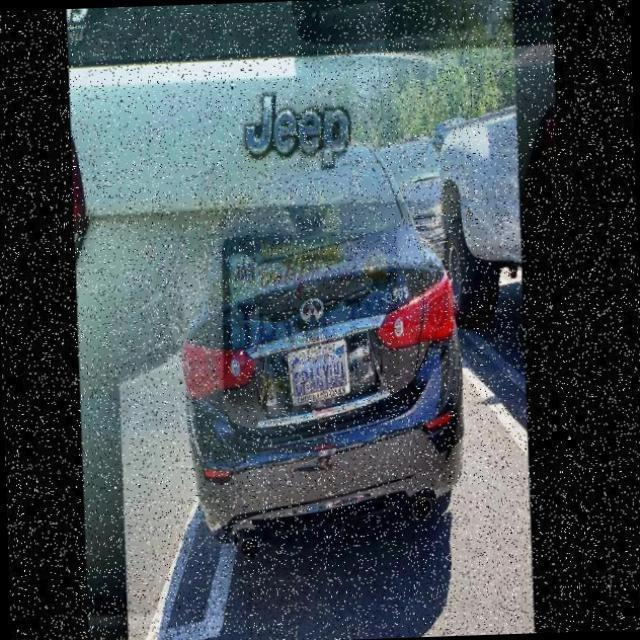license_plate: (286, 342, 356, 406)
